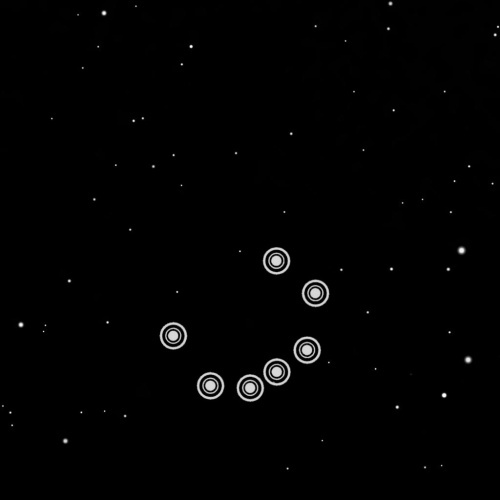corona_borealis: (151, 235, 331, 408)
